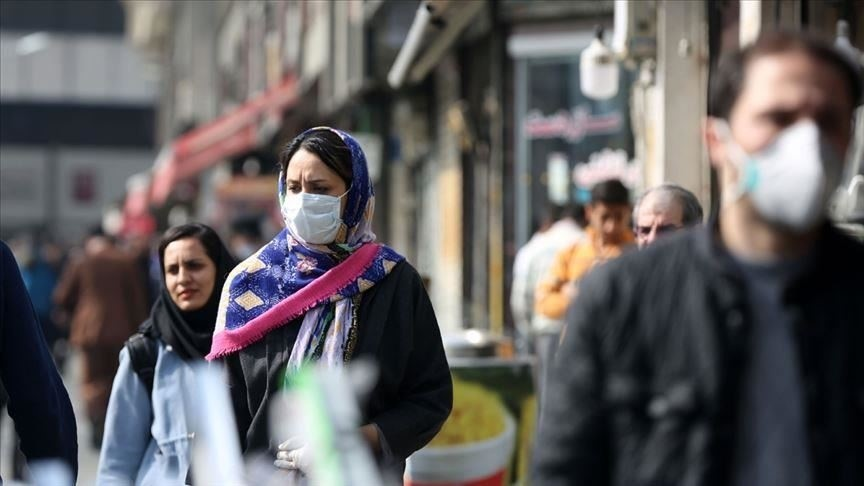face_no_mask: (634, 184, 704, 248), (579, 176, 631, 243)
face_with_mask: (721, 36, 864, 232), (269, 123, 369, 246)
